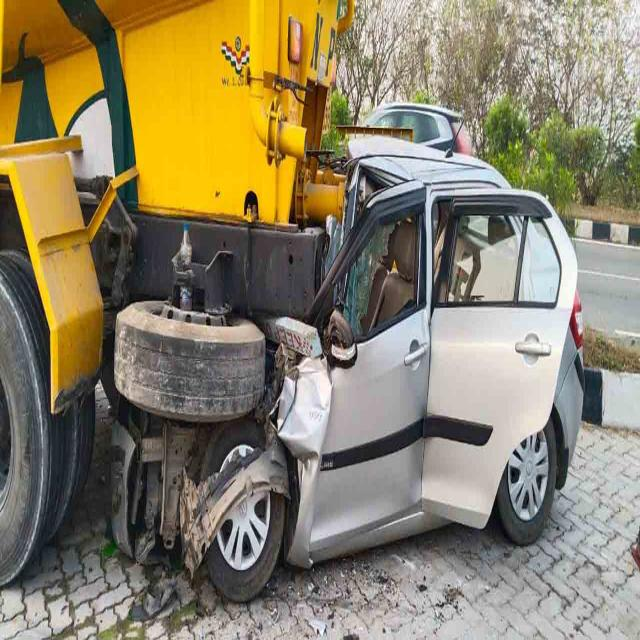accident: (110, 145, 584, 601)
